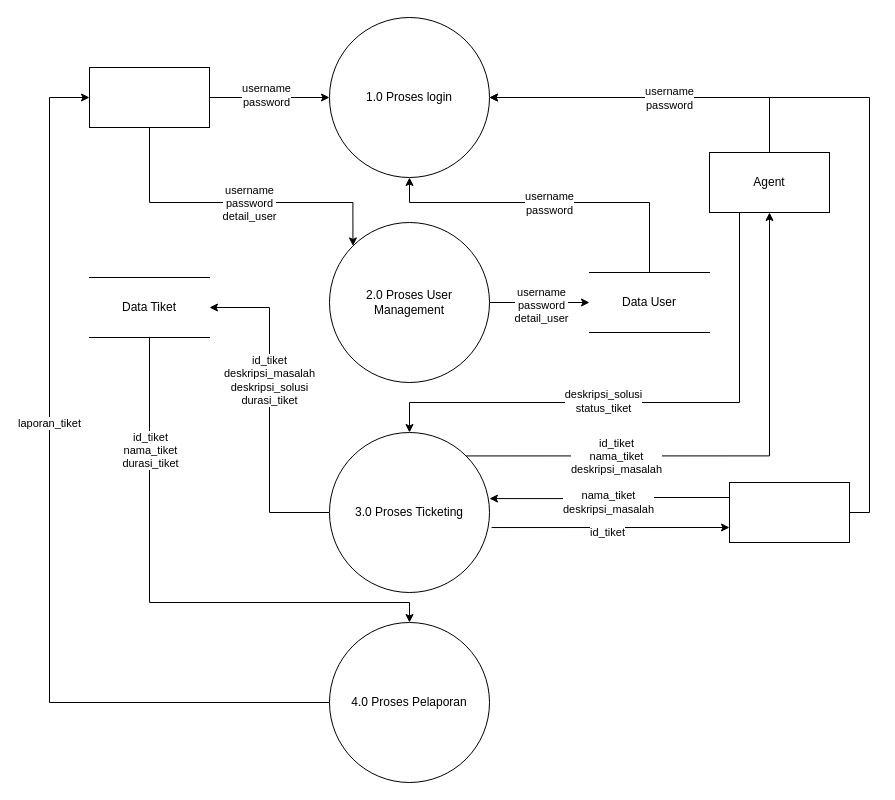
The diagram is 895 pixels wide and 800 high, and some of its shapes have lost their labels. The box of each missing label's shape, as (x1, y1, x2, y2) in pixels:
Admin: (88, 66, 210, 128)
Customer: (728, 482, 850, 542)
